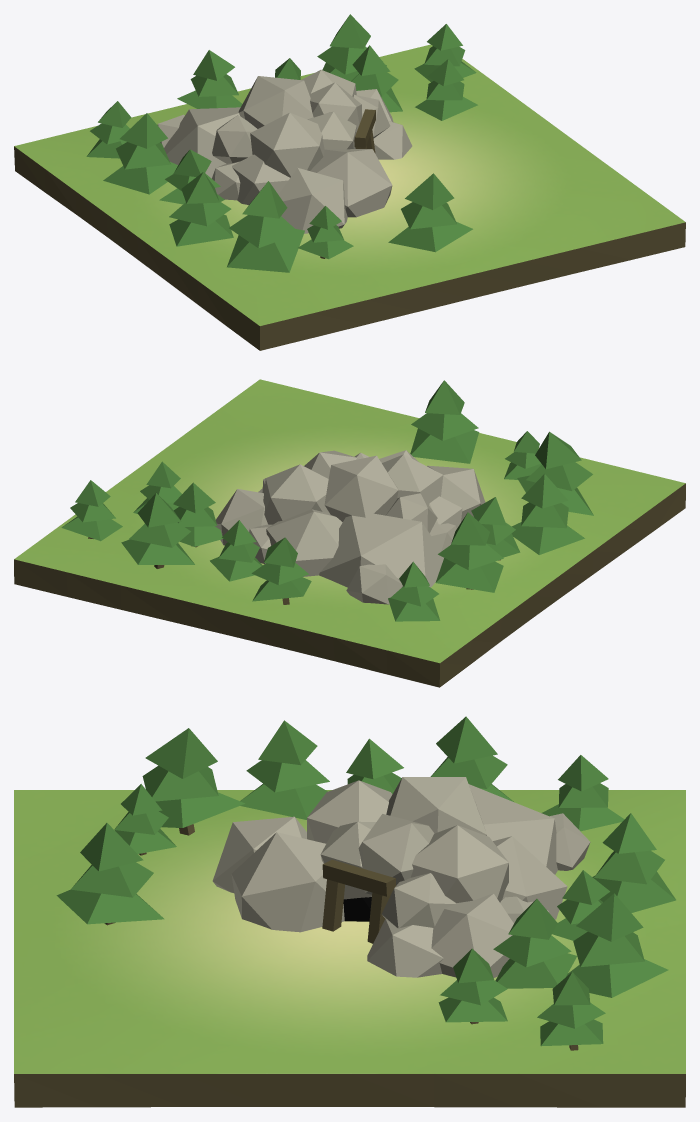
Rendered from goldMine.FBX.
3 views of the same model, one above another, from view 1: azimuth 30°, elevation 25°; view 2: azimuth 150°, elevation 25°; view 3: azimuth 270°, elevation 25° (orthographic). The views are drawn at different scales.
Parts seen in each view (by area): view 1: GoldMine; view 2: GoldMine; view 3: GoldMine.
Part boxes in pixels (x1,y1,x2,y2): GoldMine: [14, 14, 685, 350]; GoldMine: [14, 379, 685, 687]; GoldMine: [14, 716, 685, 1107].
Bounding box in the file's own units: 100 × 33.28 × 100.
1 material, 1 textured.
